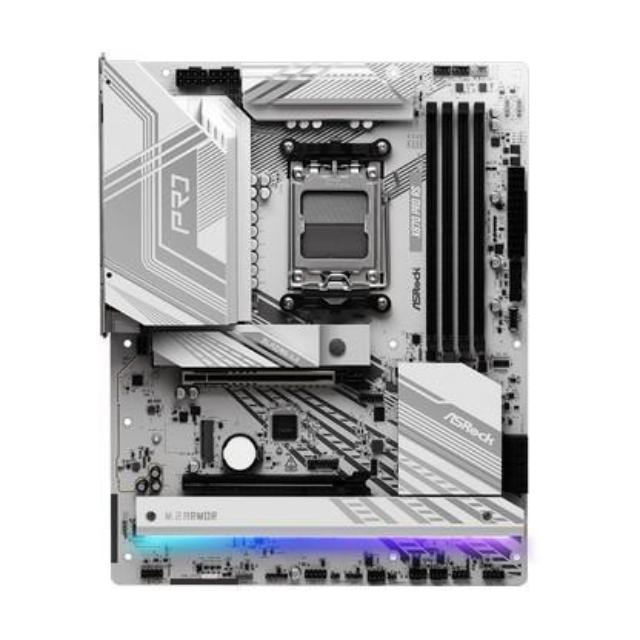Mainboard: (93, 50, 536, 595)
